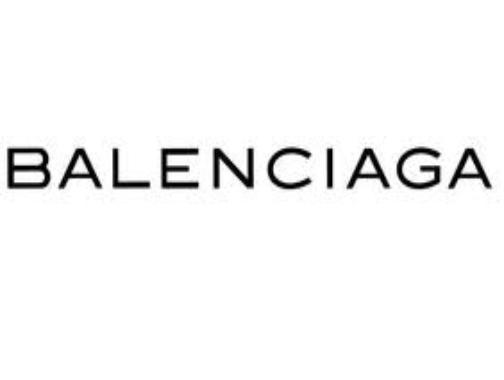BALENCIAGA: (3, 142, 502, 197)
